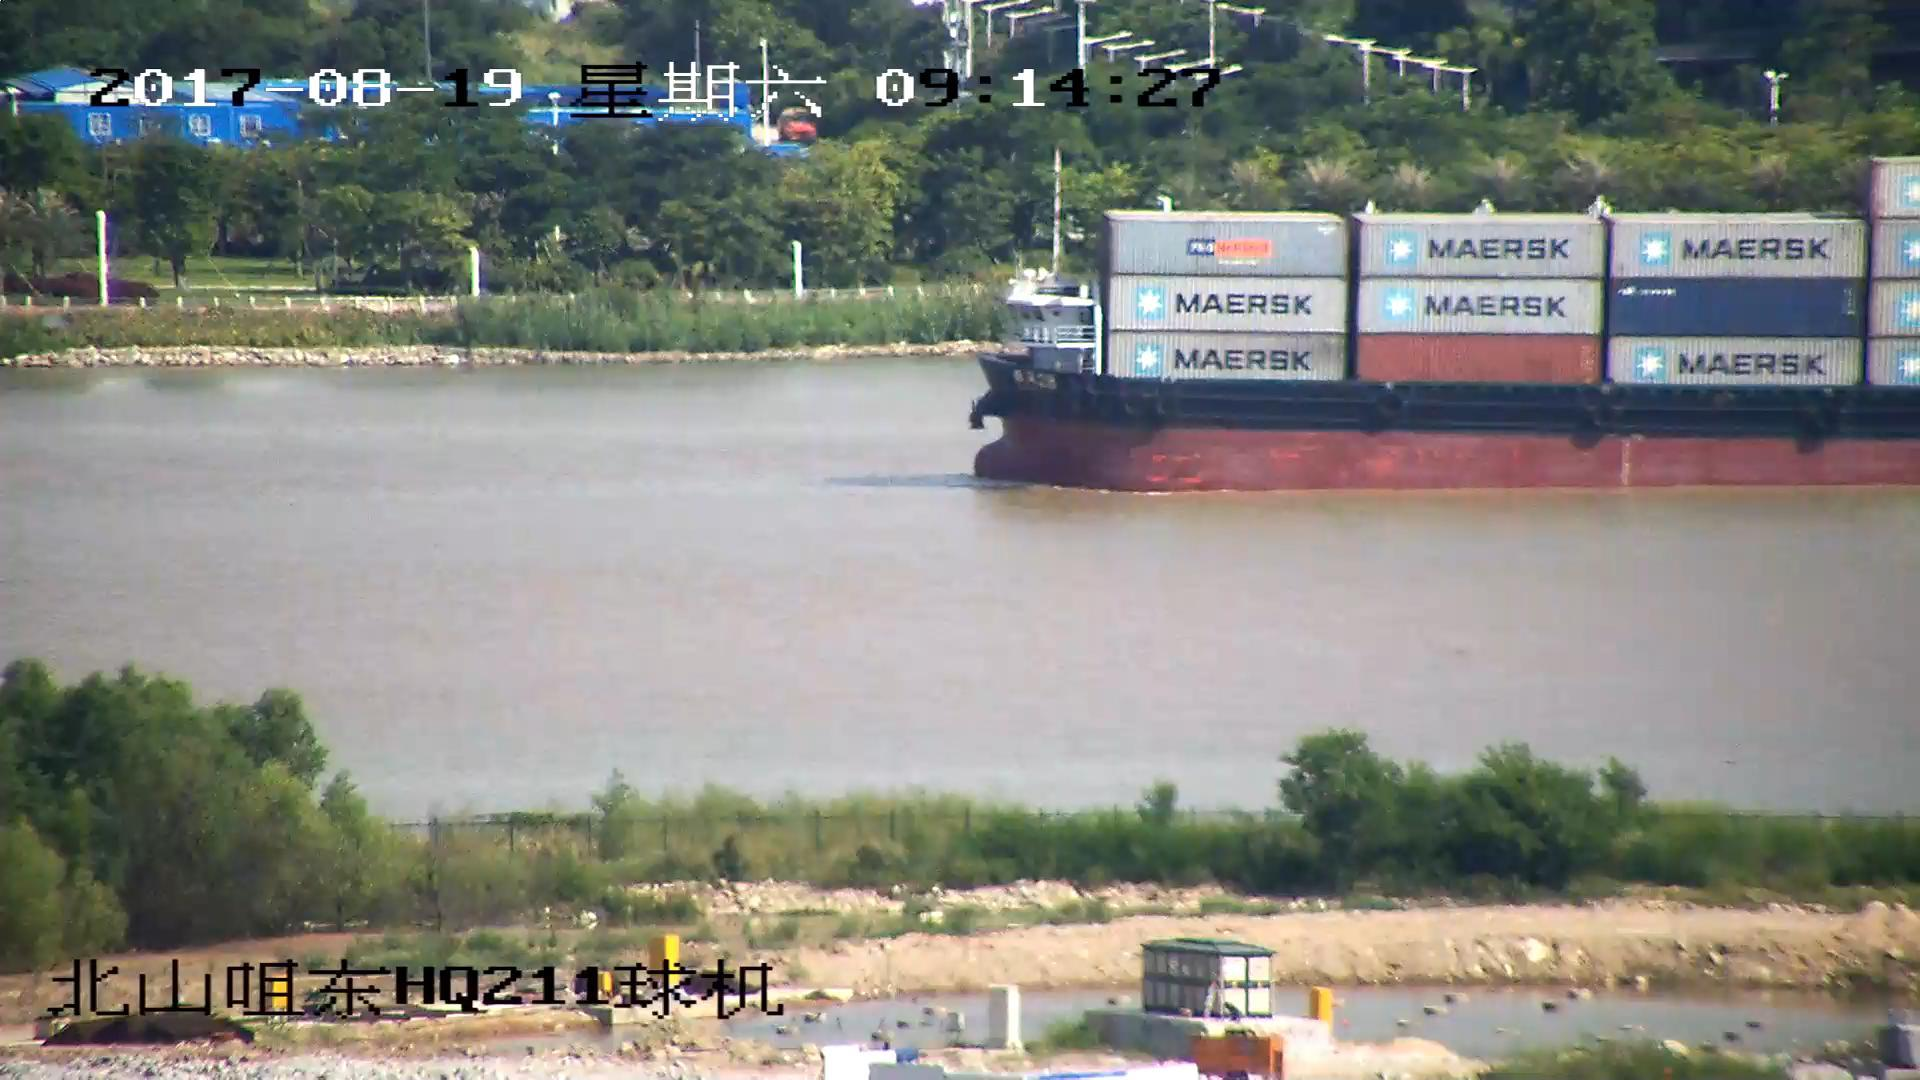Ship: (957, 160, 1920, 489)
